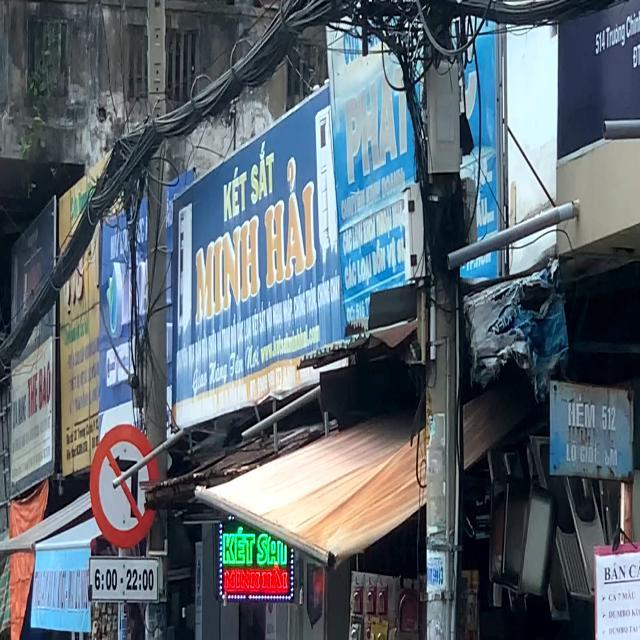P-123a: (90, 424, 156, 545)
